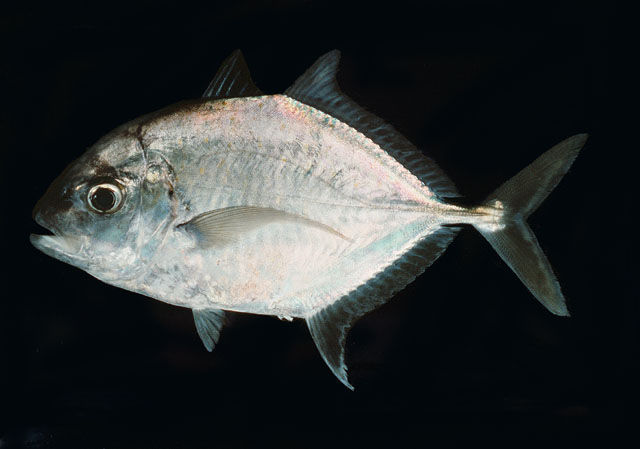fish: (30, 50, 588, 393)
